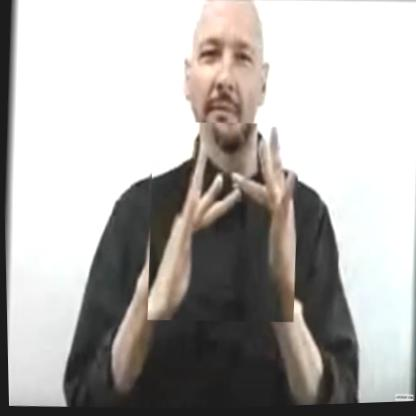Internet: (142, 119, 302, 328)
